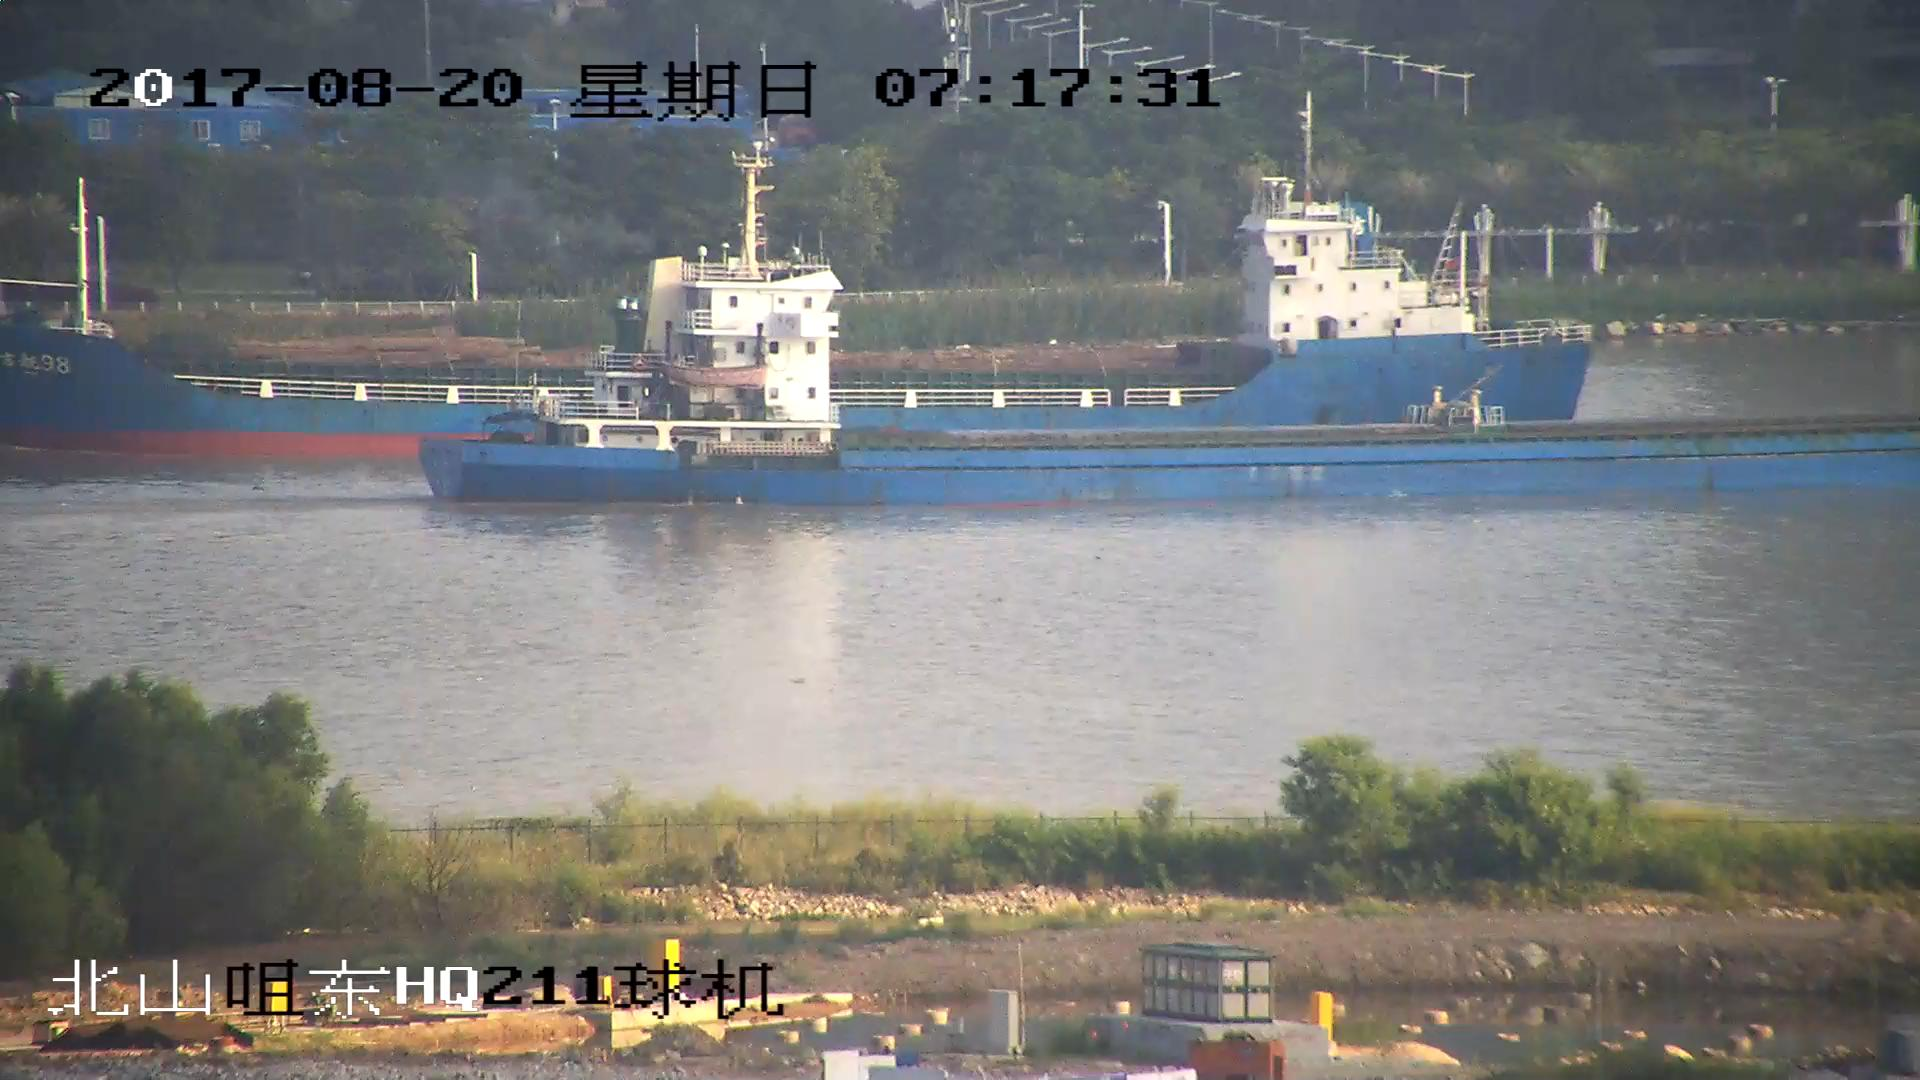general cargo ship: (1, 184, 1583, 428), (423, 264, 1920, 508)
